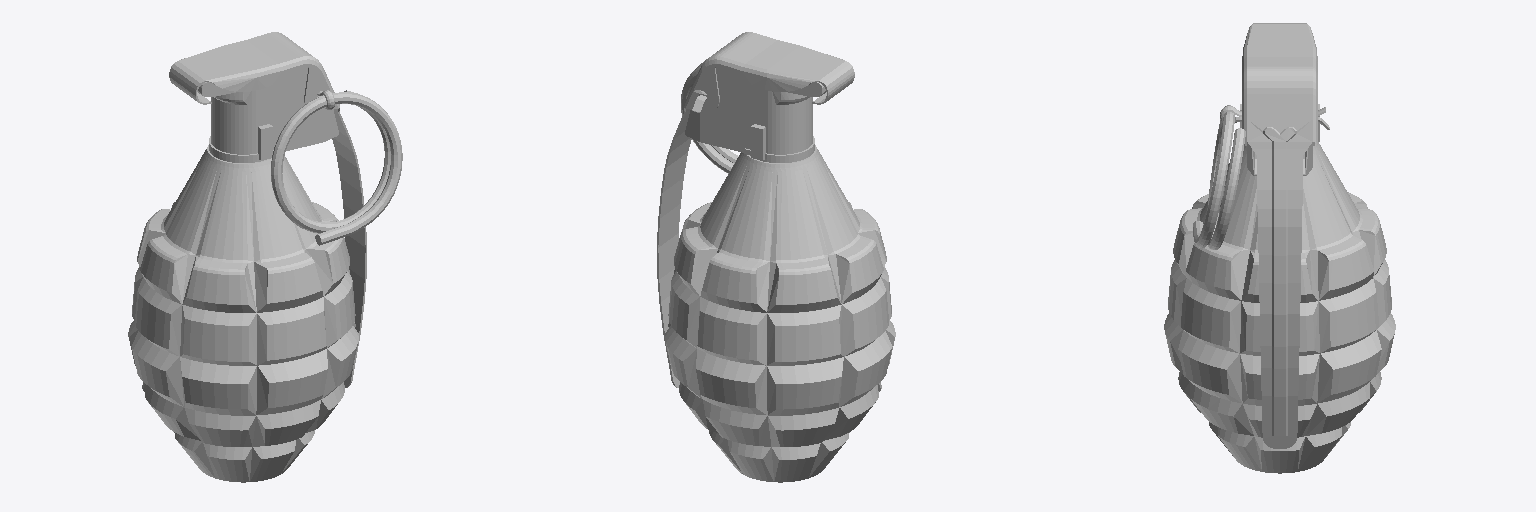
Rendered from Nade.obj.
3 views of the same model, side by side, from view 1: azimuth 30°, elevation 25°; view 2: azimuth 150°, elevation 25°; view 3: azimuth 270°, elevation 25° (orthographic).
Visible parts, largest first — view 1: Mk_2_grenade; view 2: Mk_2_grenade; view 3: Mk_2_grenade.
Boxes of the visible parts, <box> form: Mk_2_grenade: <box>128,32,402,482</box>; Mk_2_grenade: <box>657,32,895,482</box>; Mk_2_grenade: <box>1164,23,1395,473</box>.
Size of the model in its own units: 6.59 by 11.39 by 5.87.